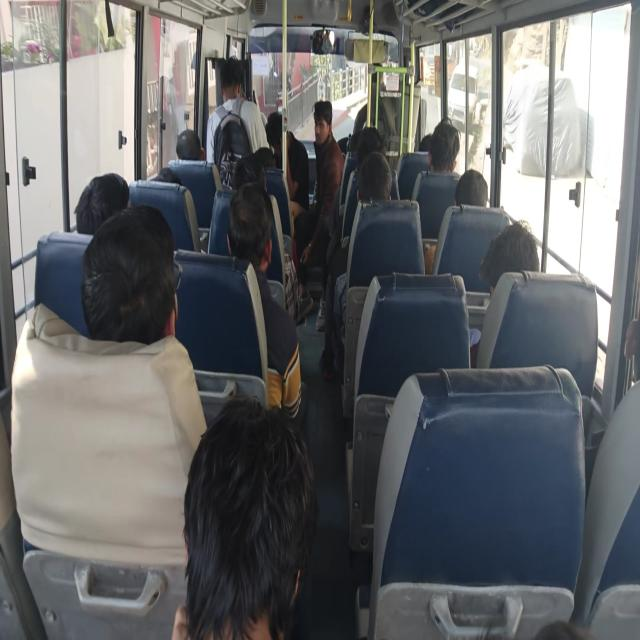person: (172, 392, 316, 634), (80, 210, 178, 346), (298, 100, 345, 302), (147, 152, 206, 237), (271, 112, 311, 235), (479, 220, 540, 293), (227, 182, 273, 270), (74, 173, 130, 236), (126, 203, 176, 269), (356, 149, 392, 204), (430, 121, 462, 175), (214, 59, 247, 107), (234, 150, 272, 190), (353, 125, 385, 170), (454, 168, 488, 208), (176, 129, 205, 161), (252, 147, 276, 171), (154, 166, 183, 184), (419, 133, 433, 153)
